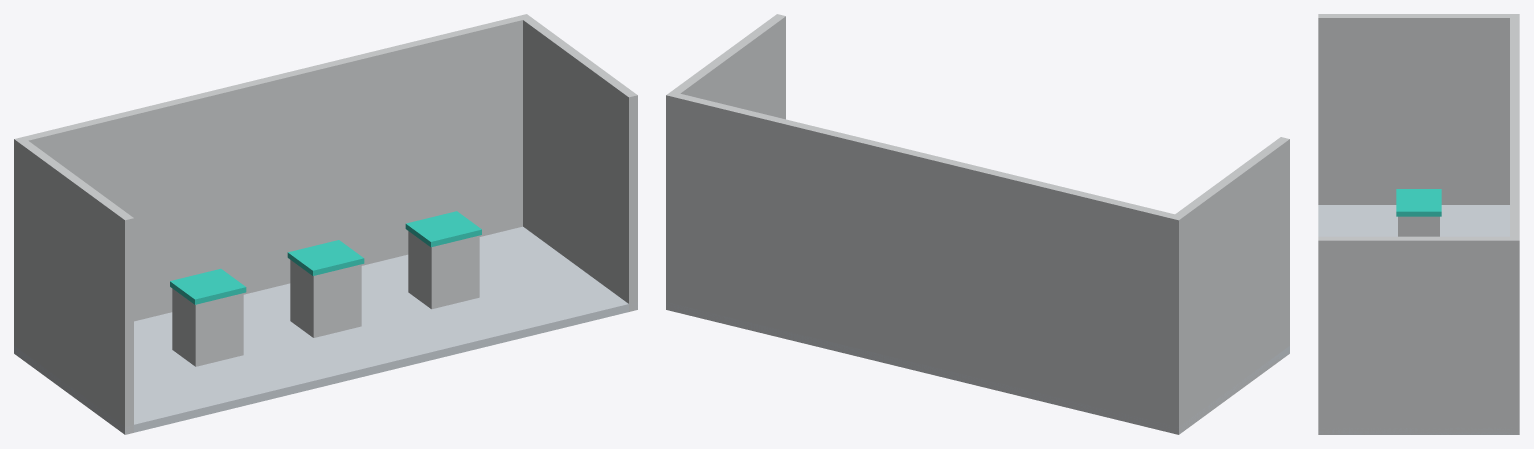
3 renders of one model, left to right at view 1: azimuth 30°, elevation 25°; view 2: azimuth 150°, elevation 25°; view 3: azimuth 270°, elevation 25°, orthographic. The views are drawn at different scales.
Parts seen in each view (by area): view 1: Exhibition Booth Concept; view 2: Exhibition Booth Concept; view 3: Exhibition Booth Concept.
Part boxes in pixels (left/top/right/bottom): Exhibition Booth Concept: left=14, top=14, right=637, bottom=434; Exhibition Booth Concept: left=666, top=14, right=1289, bottom=434; Exhibition Booth Concept: left=1318, top=14, right=1519, bottom=434.
Size of the model in its own units: 8 by 3.2 by 3.
